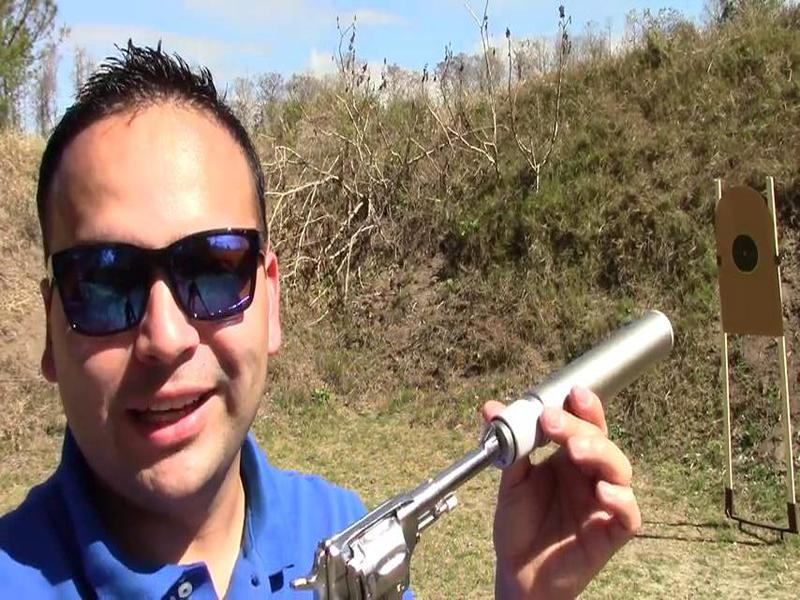Revolver: (291, 411, 515, 600)
